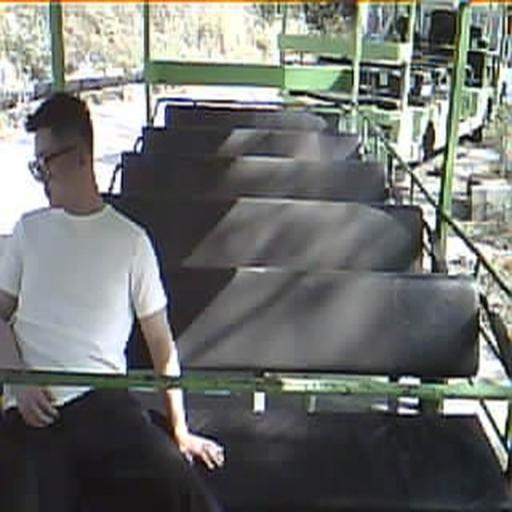persona: (0, 90, 226, 511)
